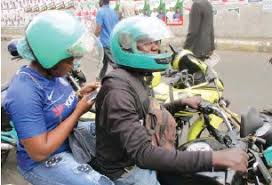helmet: (28, 7, 97, 93), (103, 12, 179, 74)
